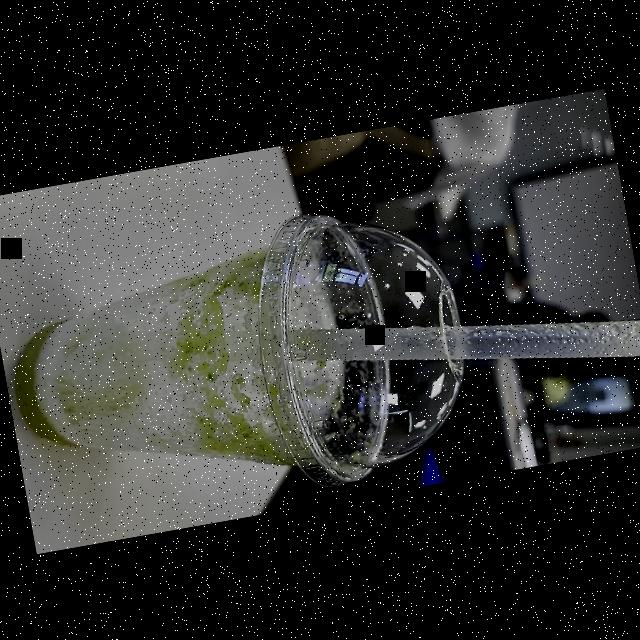plastic_cup: (0, 190, 487, 539)
plastic_cup_lid: (240, 184, 490, 496)
straw: (261, 252, 640, 427)
